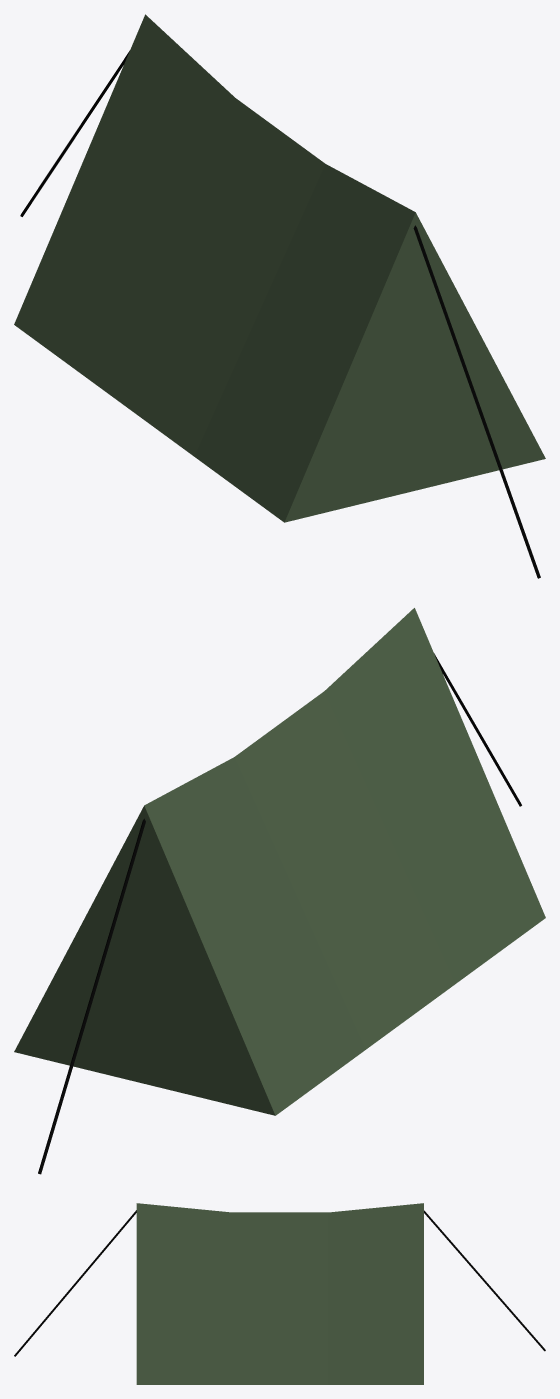
The model's file is Tend_1.fbx.
The picture shows the model from 3 angles, top to bottom: view 1: azimuth 30°, elevation 25°; view 2: azimuth 150°, elevation 25°; view 3: azimuth 270°, elevation 25°; orthographic projection. The views are drawn at different scales.
Visible parts, largest first — view 1: Tend_mesh; view 2: Tend_mesh; view 3: Tend_mesh.
Part boxes in pixels (x1,y1,x2,y2): Tend_mesh: [14, 14, 545, 578]; Tend_mesh: [14, 608, 545, 1174]; Tend_mesh: [14, 1203, 545, 1384].
Size of the model in its own units: 200 by 208 by 663.
